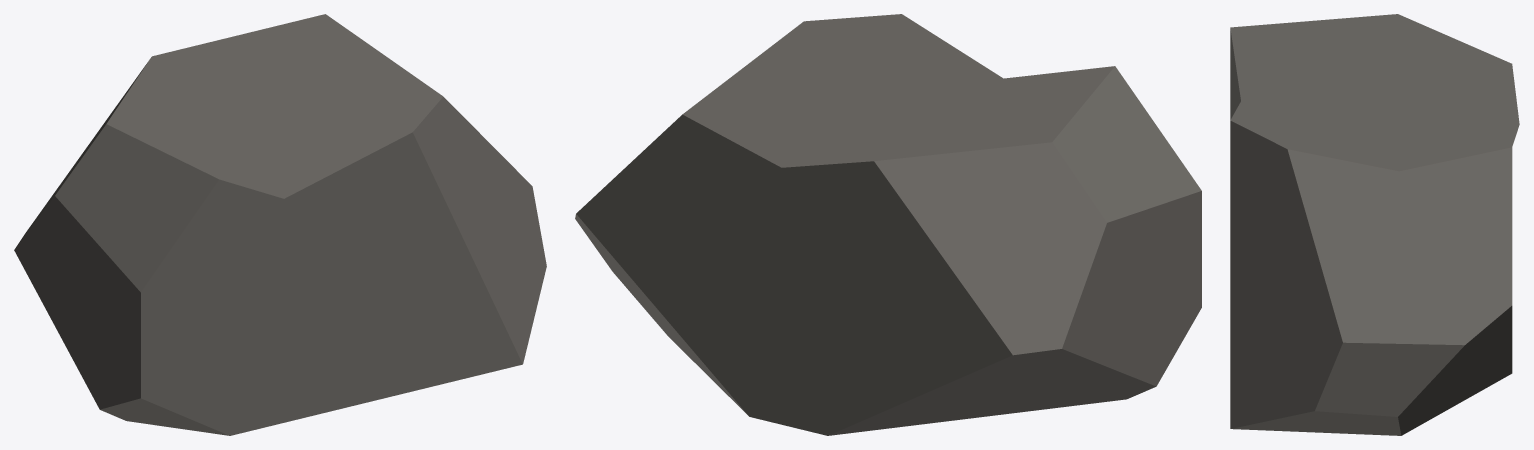
The model's file is stone_gray_2.fbx.
The picture shows the model from 3 angles, left to right: view 1: azimuth 30°, elevation 25°; view 2: azimuth 150°, elevation 25°; view 3: azimuth 270°, elevation 25°; orthographic projection. The views are drawn at different scales.
Visible parts, largest first — view 1: Cube.005; view 2: Cube.005; view 3: Cube.005.
Boxes of the visible parts, left/top/right/bottom form: Cube.005: left=14, top=14, right=546, bottom=435; Cube.005: left=575, top=14, right=1201, bottom=435; Cube.005: left=1230, top=14, right=1519, bottom=435.
Size of the model in its own units: 178 by 98.41 by 101.
